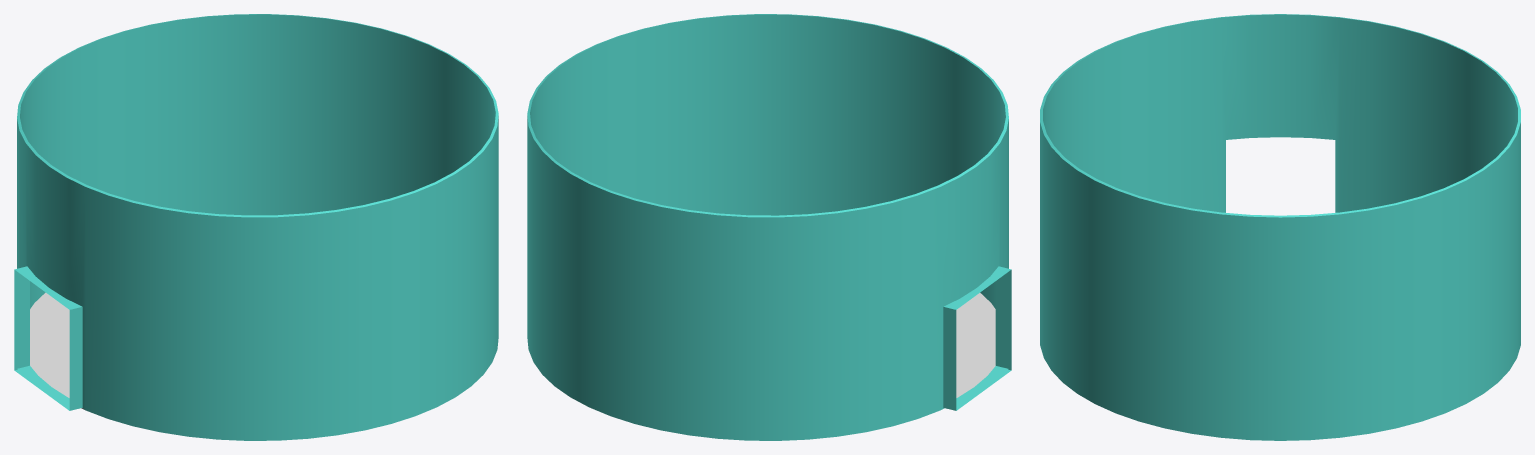
The model's file is RoundRoomSingular.fbx.
The picture shows the model from 3 angles, left to right: view 1: azimuth 30°, elevation 25°; view 2: azimuth 150°, elevation 25°; view 3: azimuth 270°, elevation 25°; orthographic projection.
Visible parts, largest first — view 1: EndHallwaySingle2; view 2: EndHallwaySingle2; view 3: EndHallwaySingle2.
Part boxes in pixels (x1,y1,x2,y2): EndHallwaySingle2: (14, 14, 498, 440); EndHallwaySingle2: (527, 14, 1011, 440); EndHallwaySingle2: (1040, 14, 1520, 440).
Size of the model in its own units: 3586 by 1810 by 3518.
